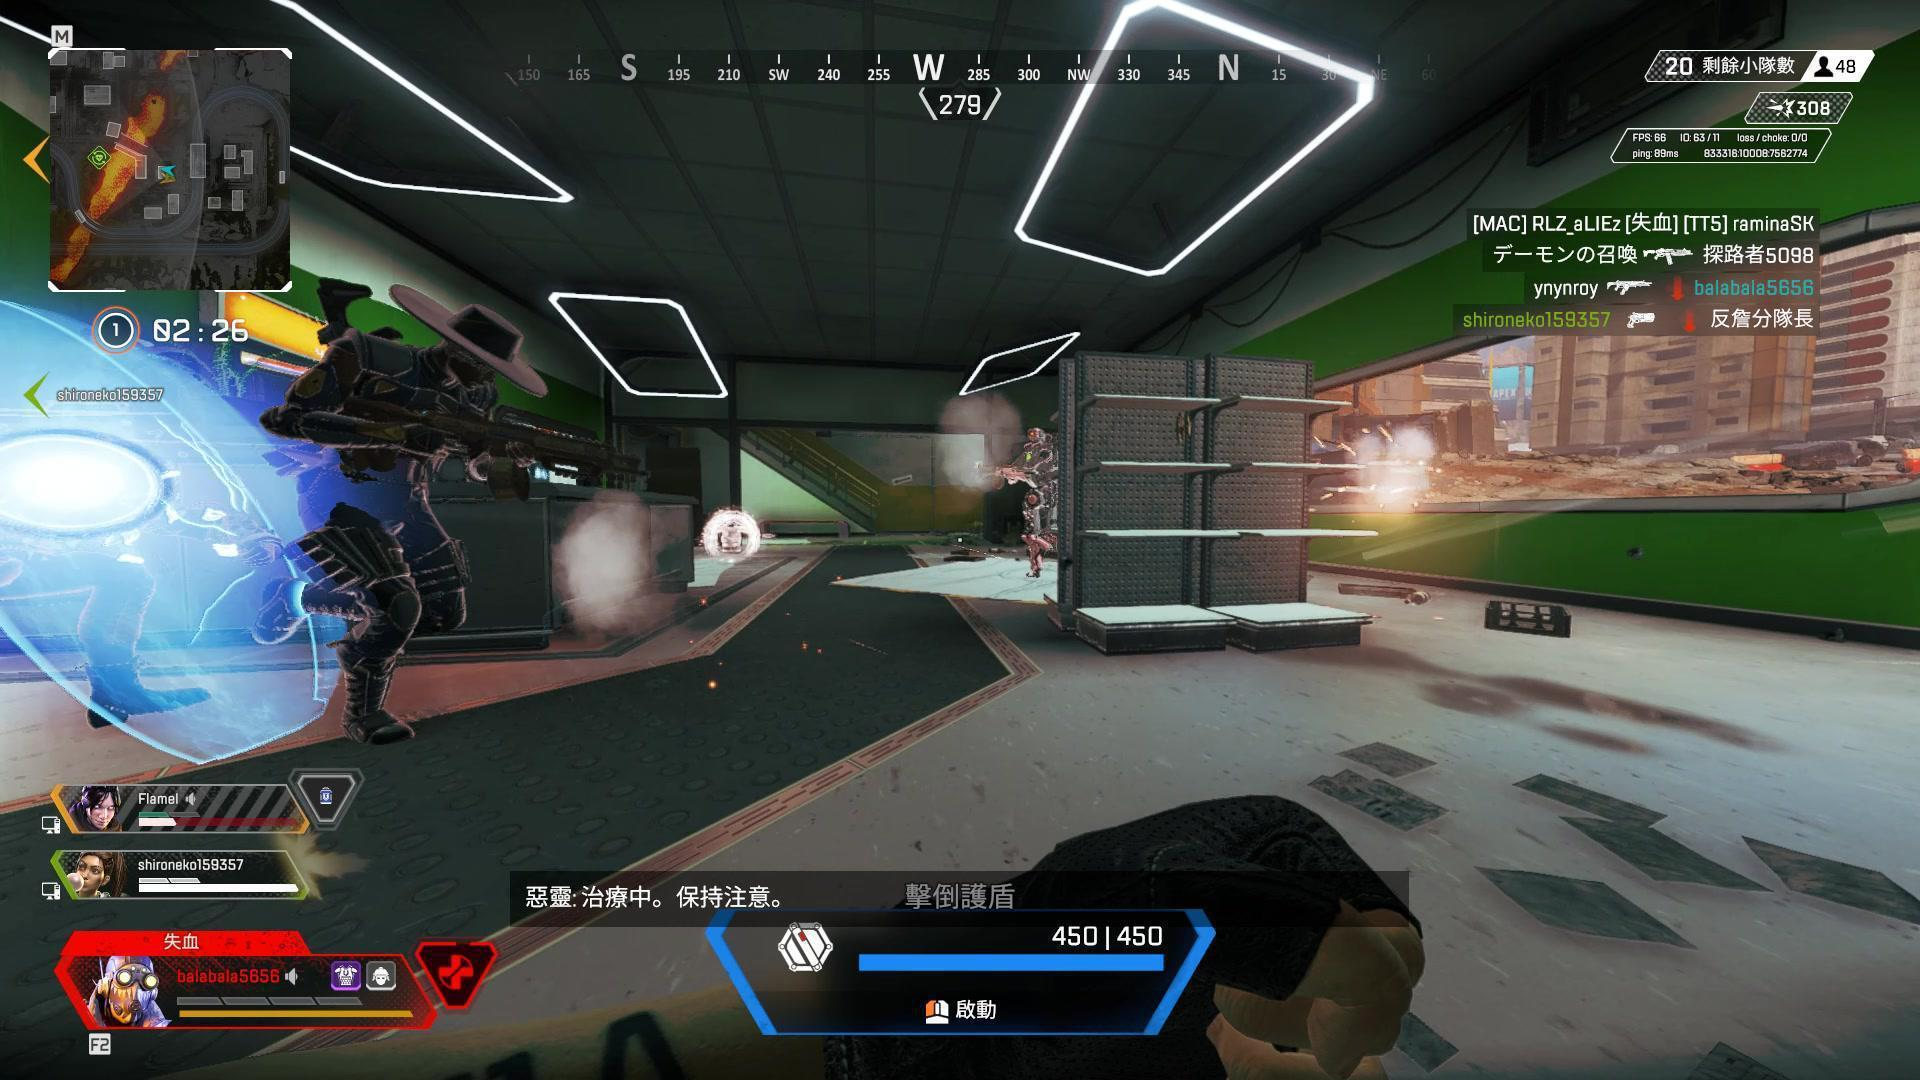avatar: (248, 302, 552, 749), (1000, 425, 1060, 579)
